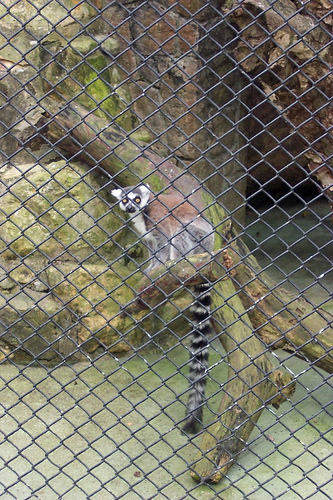cat: (112, 182, 220, 436)
